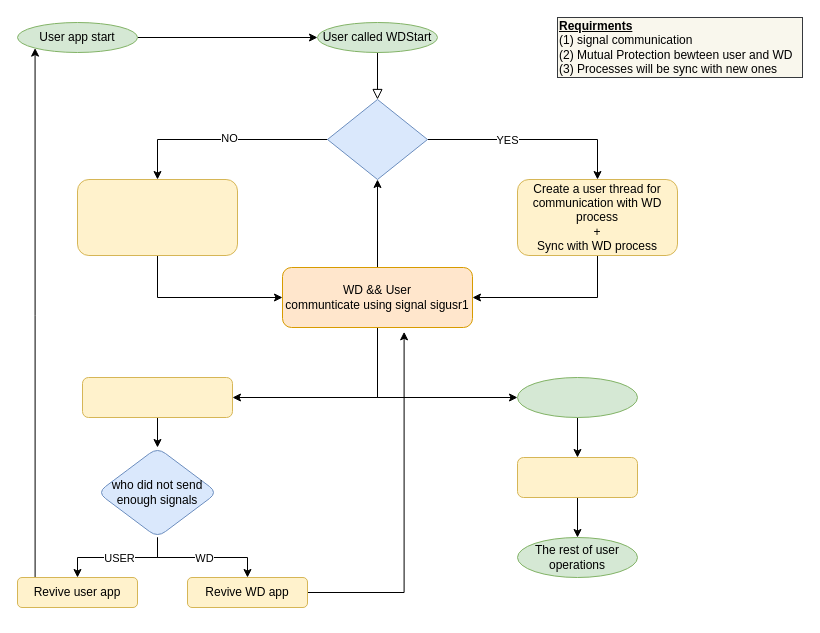
Some shapes in this 820 by 633 pixel diagram are drawn without their labels. The centre of each missing label's shape, as x and y in pixels:
"Create the WD process + Create a user thread for communication with WD process" goes at pixel 157 217.
"Free all memory allocations" goes at pixel 577 477.
"Is WD Exist?" goes at pixel 377 139.
"Not enough sigusr1 signals recived from partner" goes at pixel 157 397.
"User Called WDStop" goes at pixel 577 397.
